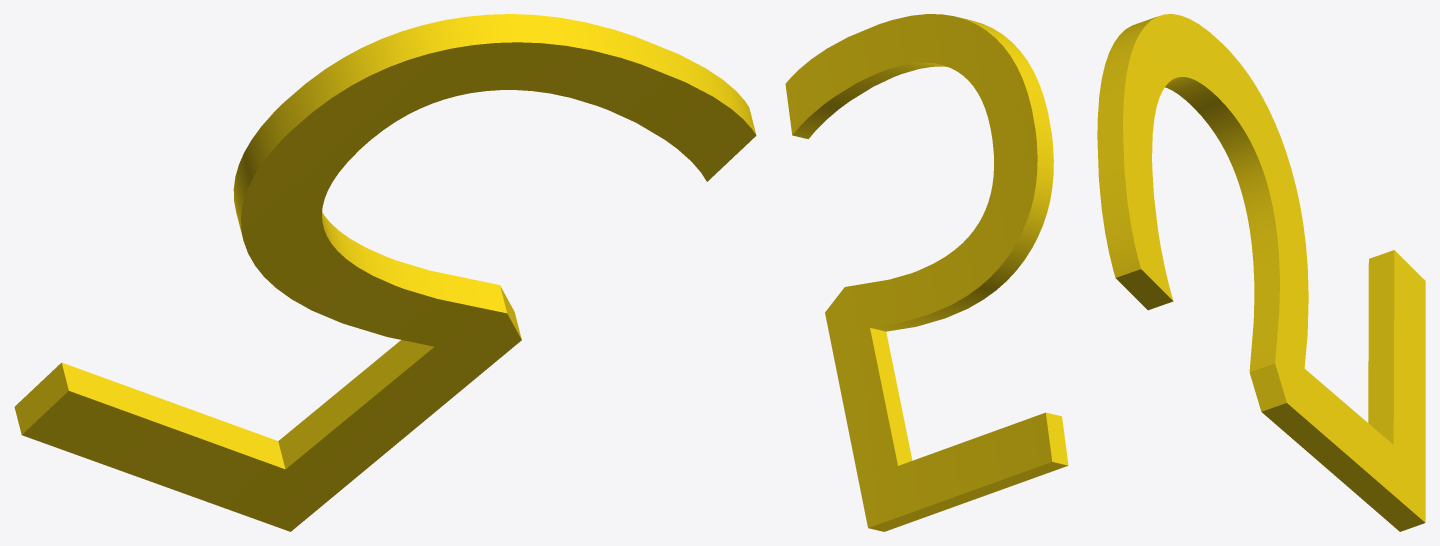
The model's file is Number_5.gltf.
3 renders of one model, left to right at view 1: azimuth 30°, elevation 25°; view 2: azimuth 150°, elevation 25°; view 3: azimuth 270°, elevation 25°, orthographic. The views are drawn at different scales.
Parts seen in each view (by area): view 1: Sub_2_Cell_1_2_Number_5; view 2: Sub_2_Cell_1_2_Number_5; view 3: Sub_2_Cell_1_2_Number_5.
Part boxes in pixels (box(x1,y1,x2,y2)): Sub_2_Cell_1_2_Number_5: box(14, 14, 756, 531); Sub_2_Cell_1_2_Number_5: box(785, 14, 1068, 531); Sub_2_Cell_1_2_Number_5: box(1097, 14, 1425, 531).
Bounding box in the file's own units: 0.023 × 0.024 × 0.0139.
